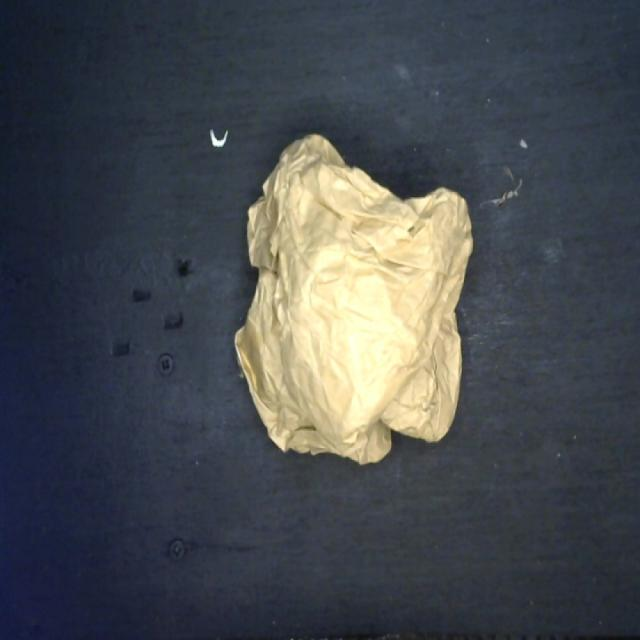biodegradable: (232, 130, 480, 468)
